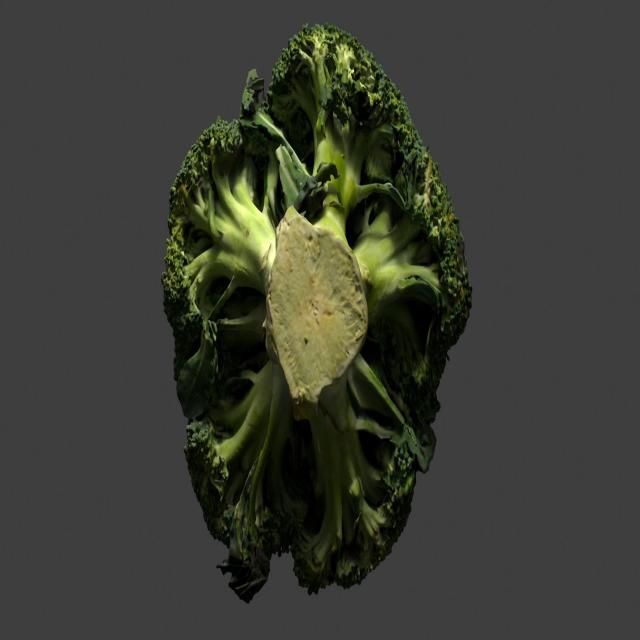broccoli: (160, 19, 471, 602)
